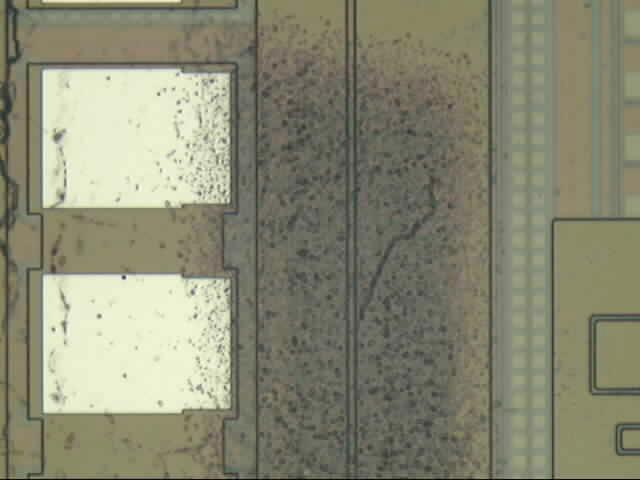PO CONTAMINATION: (1, 1, 509, 480)
